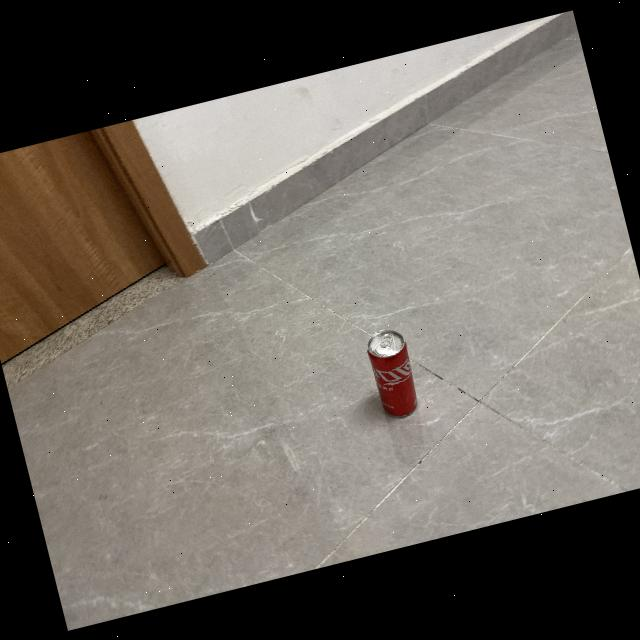Cola: (357, 324, 426, 427)
